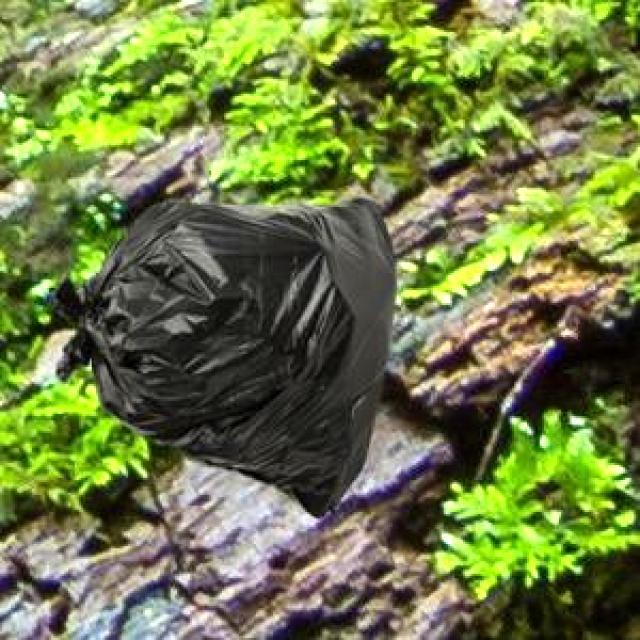Garbage_Bag: (46, 193, 393, 515)
